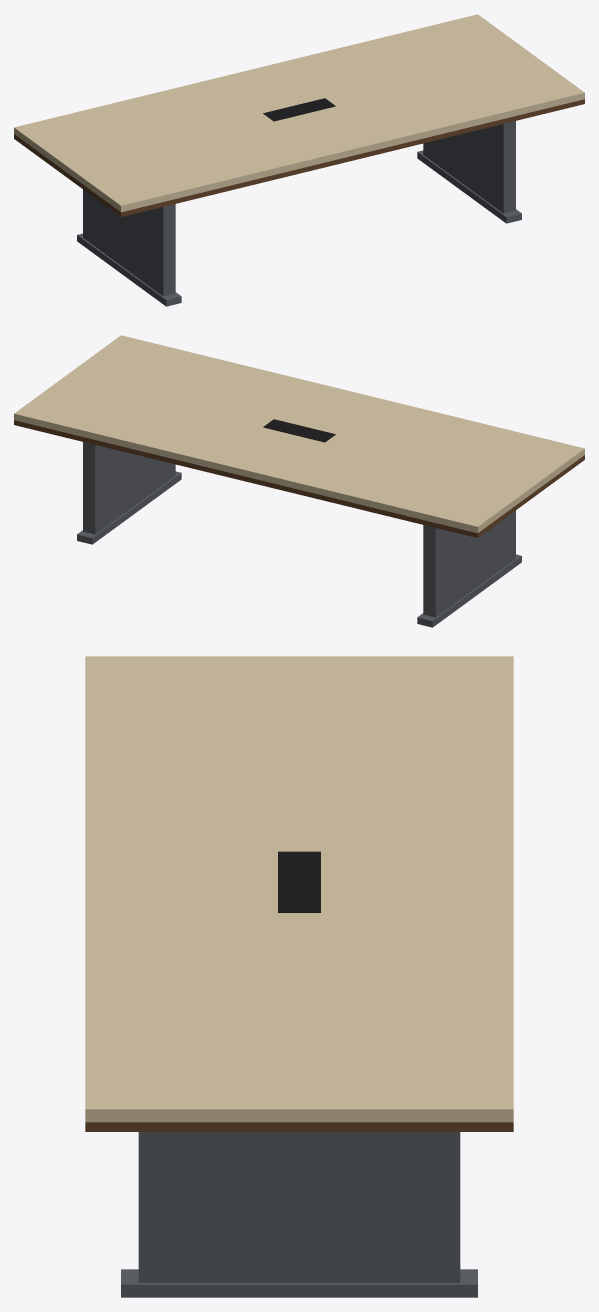
The model's file is GO_ConferenceTable_01.glb.
3 renders of one model, top to bottom at view 1: azimuth 30°, elevation 25°; view 2: azimuth 150°, elevation 25°; view 3: azimuth 270°, elevation 25°, orthographic. The views are drawn at different scales.
Parts seen in each view (by area): view 1: GO_ConferenceTable_01; view 2: GO_ConferenceTable_01; view 3: GO_ConferenceTable_01.
Boxes of the visible parts, x1,y1,x2,y2 form: GO_ConferenceTable_01: (14, 14, 584, 306); GO_ConferenceTable_01: (14, 335, 584, 627); GO_ConferenceTable_01: (85, 656, 513, 1297).
Size of the model in its own units: 3 by 0.748 by 1.2.
Materials: 1 (1 with a texture image).
